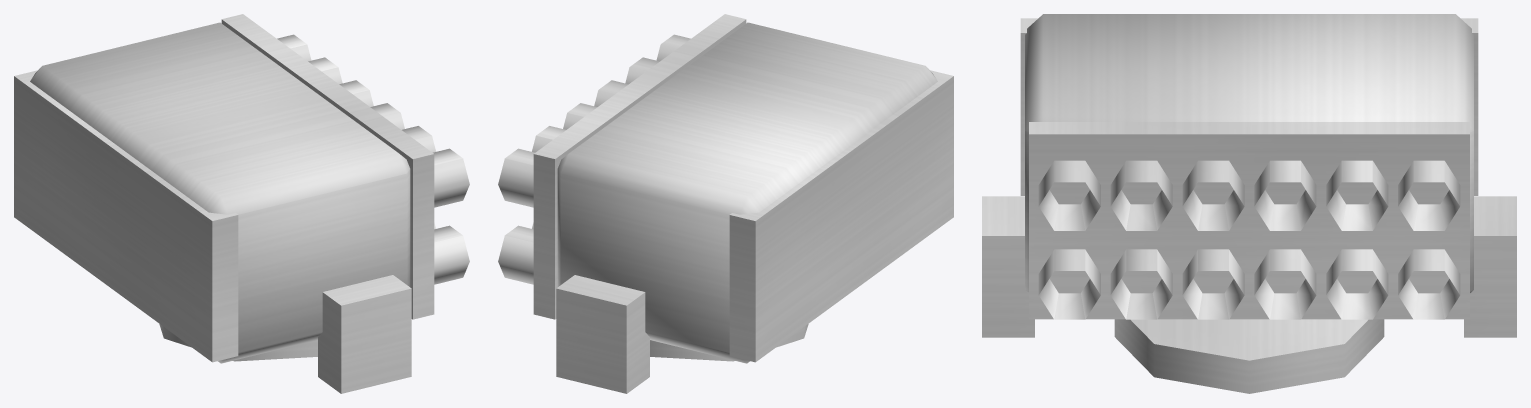
The model's file is rocketswarm_top_empty.obj.
3 views of the same model, side by side, from view 1: azimuth 30°, elevation 25°; view 2: azimuth 150°, elevation 25°; view 3: azimuth 270°, elevation 25° (orthographic). The views are drawn at different scales.
Parts seen in each view (by area): view 1: rigid_shell_003, rigid_shell_004, rigid_shell_001, rigid_shell_005, rigid_shell_012, rigid_shell_006, rigid_shell_000, rigid_shell_017, rigid_shell_015, rigid_shell_013, rigid_shell_014, rigid_shell_016; view 2: rigid_shell_003, rigid_shell_004, rigid_shell_002, rigid_shell_005, rigid_shell_017, rigid_shell_011, rigid_shell_000, rigid_shell_012, rigid_shell_014, rigid_shell_013, rigid_shell_015, rigid_shell_016; view 3: rigid_shell_003, rigid_shell_005, rigid_shell_000, rigid_shell_001, rigid_shell_002, rigid_shell_007, rigid_shell_008, rigid_shell_009, rigid_shell_010, rigid_shell_012, rigid_shell_017, rigid_shell_006 (+6 smaller).
Boxes of the visible parts, x1,y1,x2,y2 form: rigid_shell_003: (30,22,410,363); rigid_shell_004: (14,70,238,362); rigid_shell_001: (318,275,411,393); rigid_shell_005: (221,14,434,319); rigid_shell_012: (433,148,469,207); rigid_shell_006: (434,225,469,284); rigid_shell_000: (159,324,317,361); rigid_shell_017: (277,34,311,61); rigid_shell_015: (339,80,373,106); rigid_shell_013: (402,126,435,152); rigid_shell_014: (370,103,404,129); rigid_shell_016: (308,57,342,84); rigid_shell_003: (557,22,937,363); rigid_shell_004: (729,70,953,362); rigid_shell_002: (556,275,649,393); rigid_shell_005: (533,14,746,319); rigid_shell_017: (498,148,534,207); rigid_shell_011: (498,225,533,284); rigid_shell_000: (650,324,808,361); rigid_shell_012: (656,34,690,61); rigid_shell_014: (594,80,628,106); rigid_shell_013: (625,57,659,84); rigid_shell_015: (563,103,597,129); rigid_shell_016: (532,126,565,152); rigid_shell_003: (1025,14,1473,292); rigid_shell_005: (1029,122,1469,319); rigid_shell_000: (1114,319,1384,393); rigid_shell_001: (982,196,1034,337); rigid_shell_002: (1464,196,1516,337); rigid_shell_007: (1110,249,1172,319); rigid_shell_008: (1182,249,1244,319); rigid_shell_009: (1254,249,1316,319); rigid_shell_010: (1326,249,1388,319); rigid_shell_012: (1038,160,1100,230); rigid_shell_017: (1398,160,1460,230); rigid_shell_006: (1038,249,1100,319).
Bounding box in the file's own units: 0.865 × 0.67 × 1.31.
